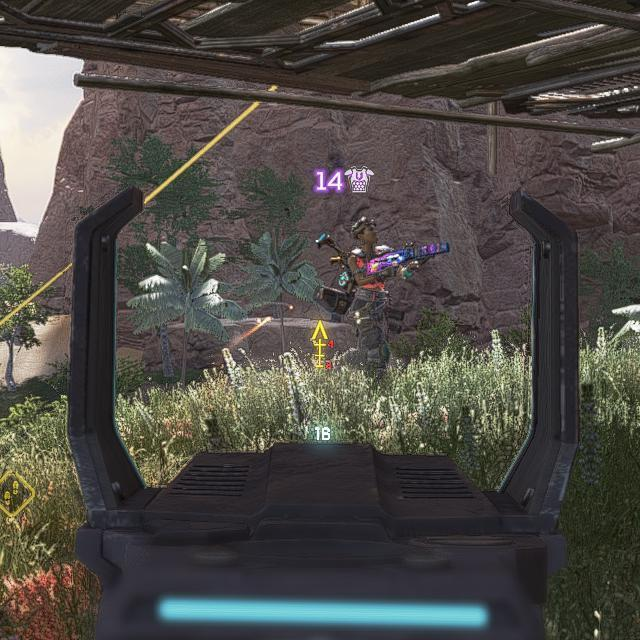avatar: (317, 216, 430, 372)
